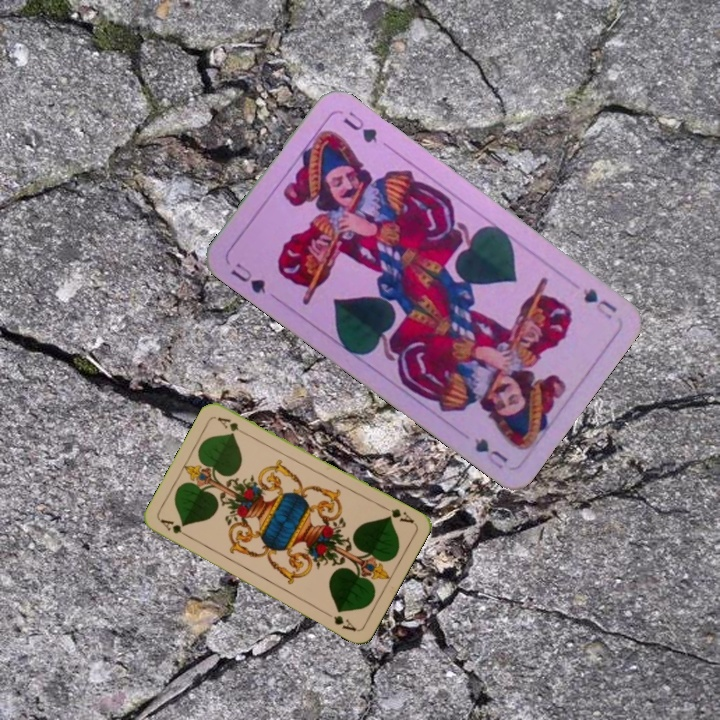GA: (156, 515, 193, 541), (379, 502, 417, 526)
GU: (226, 258, 269, 297), (578, 284, 620, 322)
